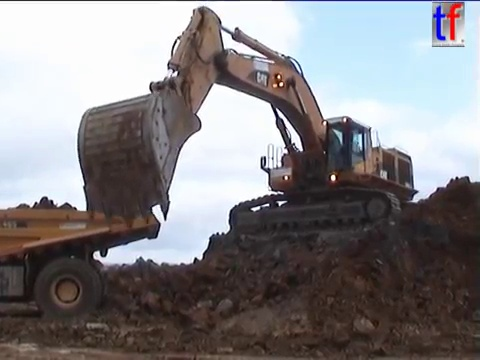excavator: (73, 3, 424, 242)
truck: (1, 203, 163, 325)
